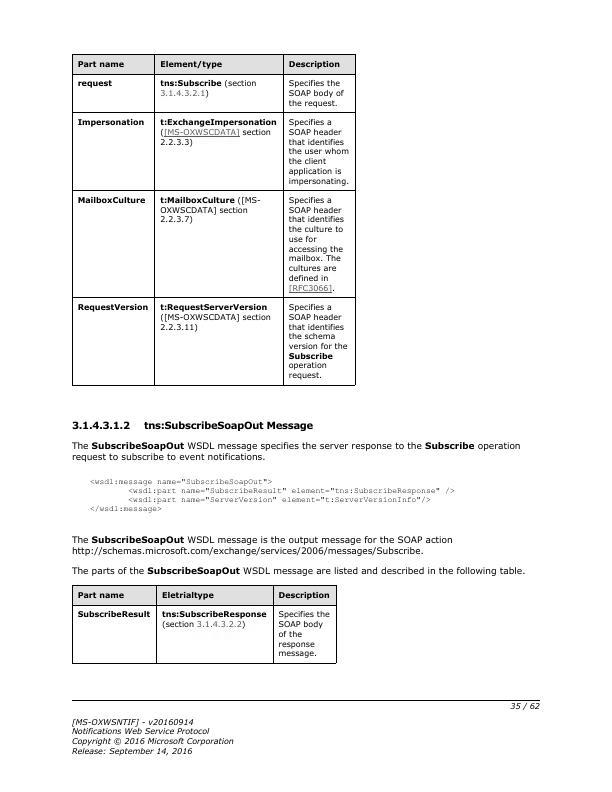table: (71, 52, 357, 388), (68, 582, 339, 667)
text: (86, 475, 456, 513), (70, 438, 523, 463), (68, 533, 455, 558), (68, 563, 525, 579), (68, 715, 235, 758), (67, 418, 316, 434)
